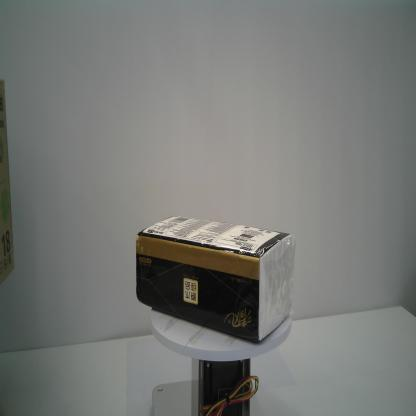Tissue: (136, 215, 296, 342)
